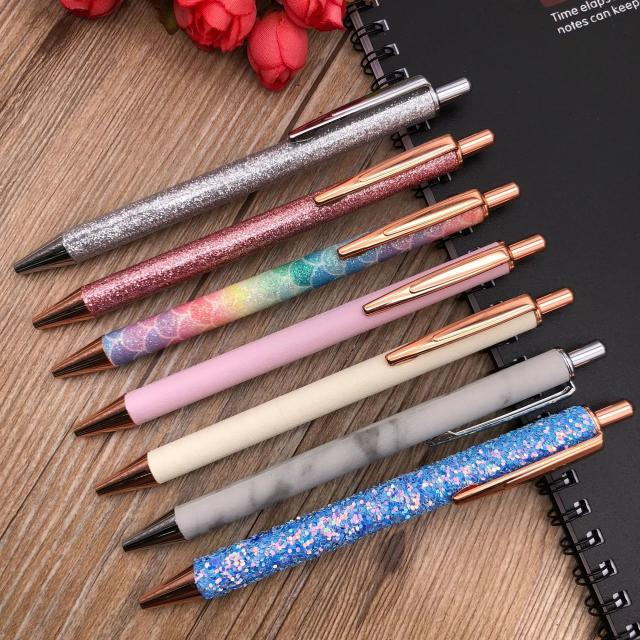pen: (133, 395, 633, 611), (92, 287, 576, 498), (74, 235, 545, 436), (122, 350, 590, 551), (32, 130, 494, 329), (52, 182, 520, 378), (15, 76, 471, 274)
